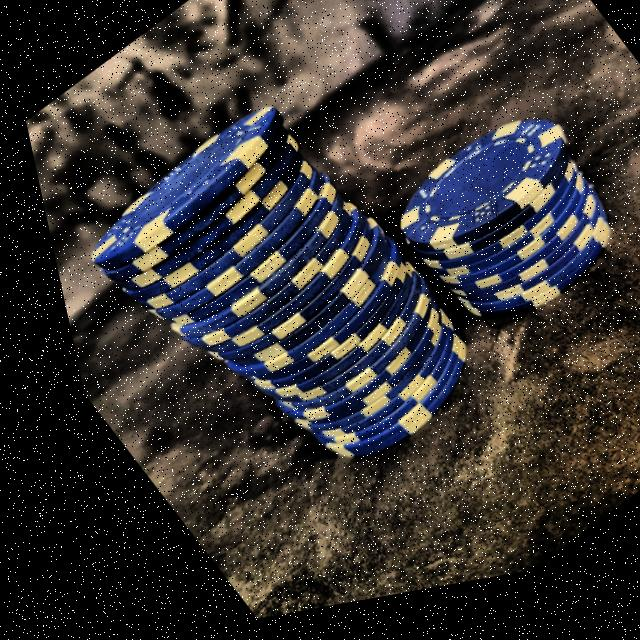Chip: (23, 42, 505, 551), (334, 80, 640, 386)
